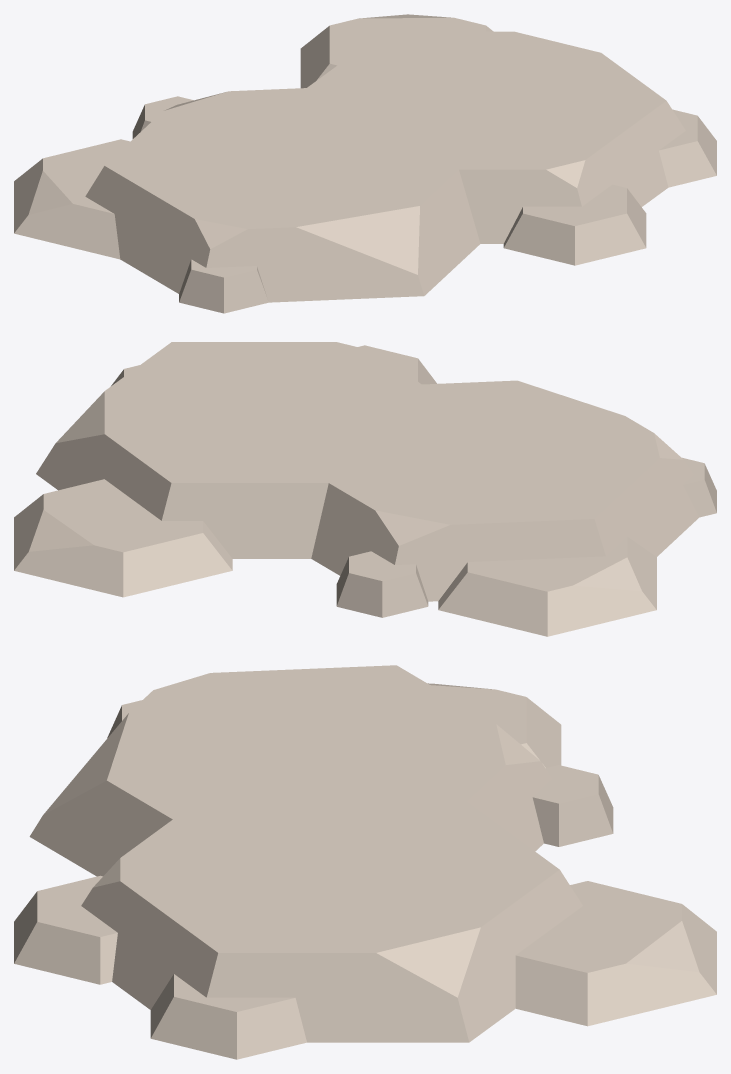
The model's file is platform_beach.gltf.
The picture shows the model from 3 angles, top to bottom: view 1: azimuth 30°, elevation 25°; view 2: azimuth 150°, elevation 25°; view 3: azimuth 270°, elevation 25°; orthographic projection. The views are drawn at different scales.
Visible parts, largest first — view 1: platform_beach; view 2: platform_beach; view 3: platform_beach.
Part boxes in pixels (x1=…): platform_beach: x1=14, y1=14, x2=716, y2=313; platform_beach: x1=14, y1=342, x2=716, y2=636; platform_beach: x1=14, y1=665, x2=716, y2=1059.
Size of the model in its own units: 0.8932 by 0.0825 by 0.7239.
